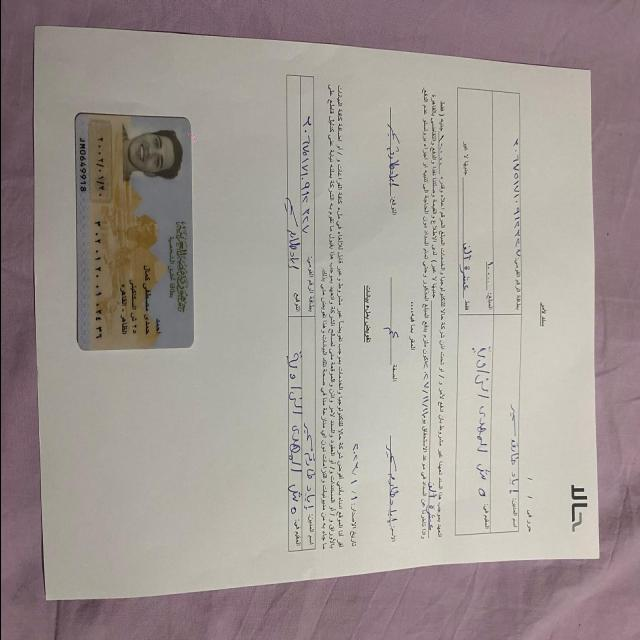ID-cards: (71, 108, 197, 354)
